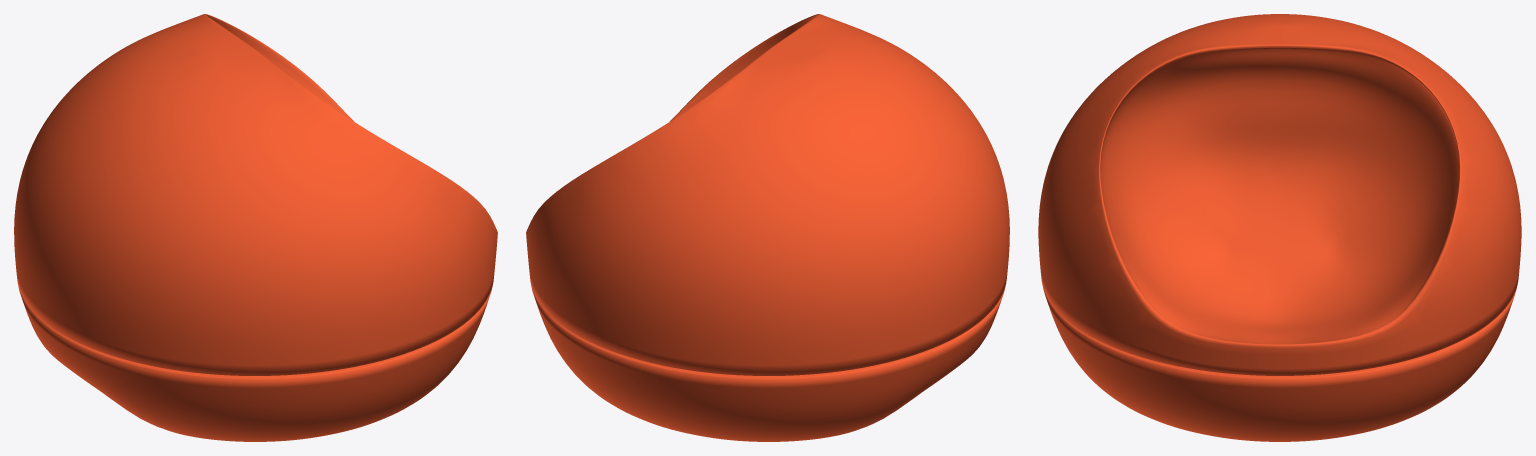
The model's file is planet_code_club.glb.
3 views of the same model, side by side, from view 1: azimuth 30°, elevation 25°; view 2: azimuth 150°, elevation 25°; view 3: azimuth 270°, elevation 25° (orthographic).
Parts seen in each view (by area): view 1: Orange Abstract chair; view 2: Orange Abstract chair; view 3: Orange Abstract chair.
Part boxes in pixels (x1,y1,x2,y2): Orange Abstract chair: [14, 14, 497, 441]; Orange Abstract chair: [526, 14, 1009, 441]; Orange Abstract chair: [1038, 14, 1521, 441].
Bounding box in the file's own units: 1.98 × 1.5 × 1.97.
